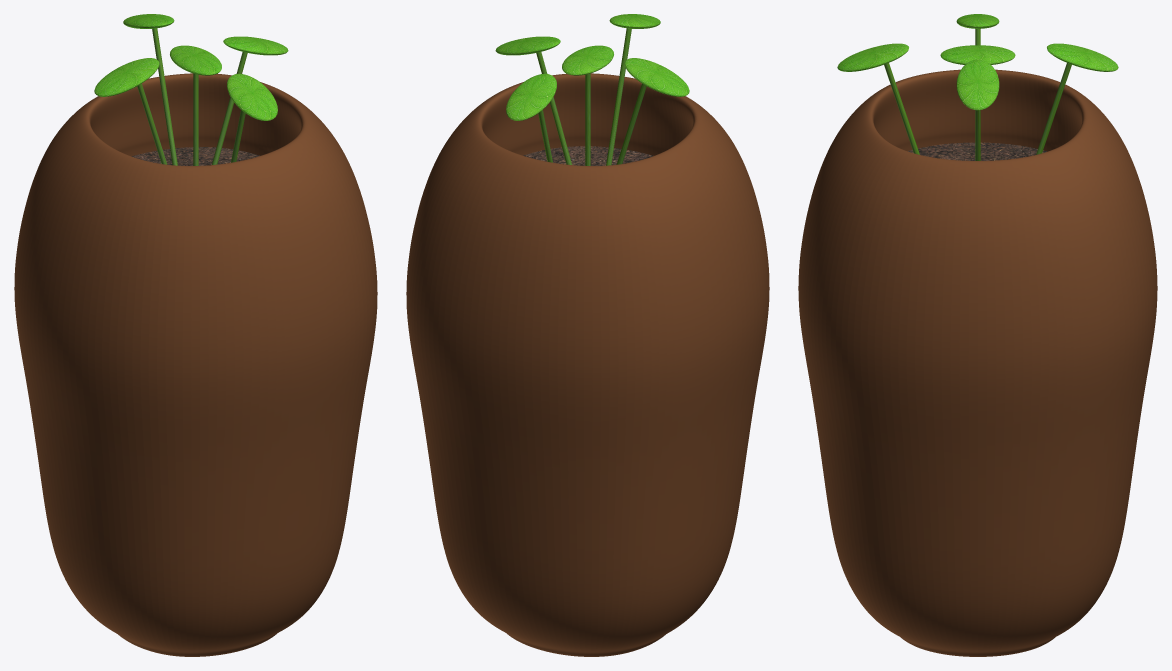
File: FlowerPot1.fbx
3 renders of one model, left to right at view 1: azimuth 30°, elevation 25°; view 2: azimuth 150°, elevation 25°; view 3: azimuth 270°, elevation 25°, orthographic.
Parts seen in each view (by area): view 1: Cube, Sphere.003, Sphere, Cube.001, Sphere.004, Sphere.001, Cylinder.002, Sphere.002, Cylinder.004, Cylinder.001; view 2: Cube, Sphere.002, Sphere, Cube.001, Sphere.004, Sphere.001, Cylinder.003, Sphere.003, Cylinder.004, Cylinder.001; view 3: Cube, Sphere.001, Cube.001, Sphere.002, Sphere.003, Sphere.004, Cylinder.002, Cylinder.003, Sphere.
Part boxes in pixels (x1,y1,x2,y2): Cube: (14,73,377,656); Sphere.003: (227,73,277,120); Sphere: (94,58,159,96); Cube.001: (131,147,259,165); Sphere.004: (170,45,221,75); Sphere.001: (223,36,288,55); Cylinder.002: (152,28,177,165); Sphere.002: (123,14,174,28); Cylinder.004: (193,73,198,165); Cylinder.001: (212,52,247,164); Cube: (406,73,769,656); Sphere.002: (506,73,556,120); Sphere: (624,58,689,96); Cube.001: (523,146,653,165); Sphere.004: (562,45,613,75); Sphere.001: (495,36,560,55); Cylinder.003: (606,28,631,165); Sphere.003: (609,14,660,28); Cylinder.004: (585,73,590,165); Cylinder.001: (536,52,571,164); Cube: (798,69,1157,656); Sphere.001: (956,59,999,110); Cube.001: (908,142,1046,160); Sphere.002: (1047,43,1118,71); Sphere.003: (837,43,908,71); Sphere.004: (940,45,1015,64); Cylinder.002: (1036,63,1071,154); Cylinder.003: (884,63,919,154); Sphere: (956,14,999,28).
Size of the model in its own units: 134 by 240 by 134.
